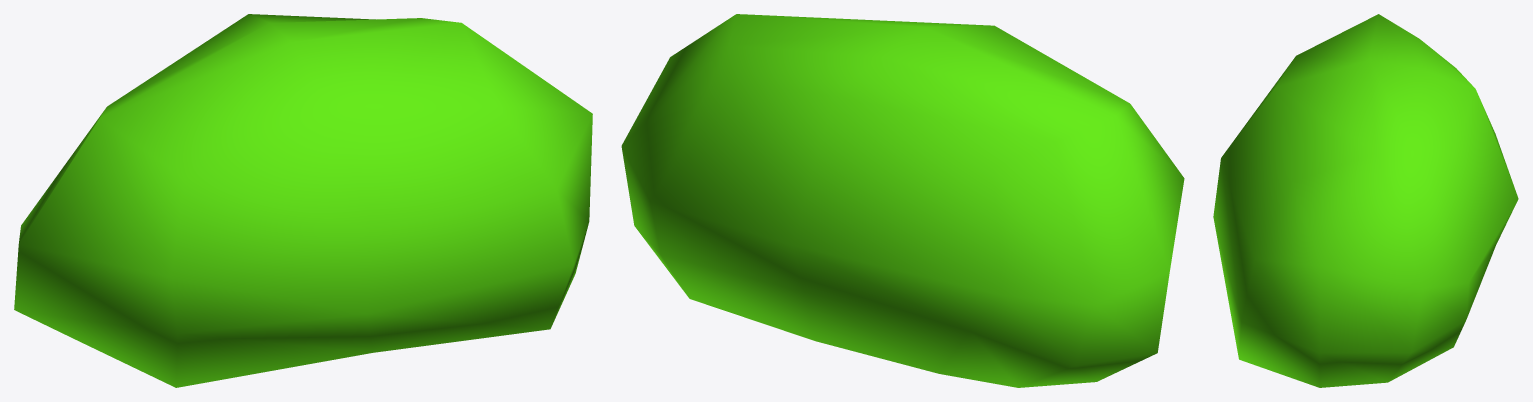
Rendered from moita.fbx.
3 views of the same model, side by side, from view 1: azimuth 30°, elevation 25°; view 2: azimuth 150°, elevation 25°; view 3: azimuth 270°, elevation 25° (orthographic). The views are drawn at different scales.
Parts seen in each view (by area): view 1: Moita; view 2: Moita; view 3: Moita.
Part boxes in pixels (<box>): Moita: <box>14,14,592,387</box>; Moita: <box>621,14,1184,387</box>; Moita: <box>1213,14,1518,387</box>.
Size of the model in its own units: 591 by 299 by 360.
